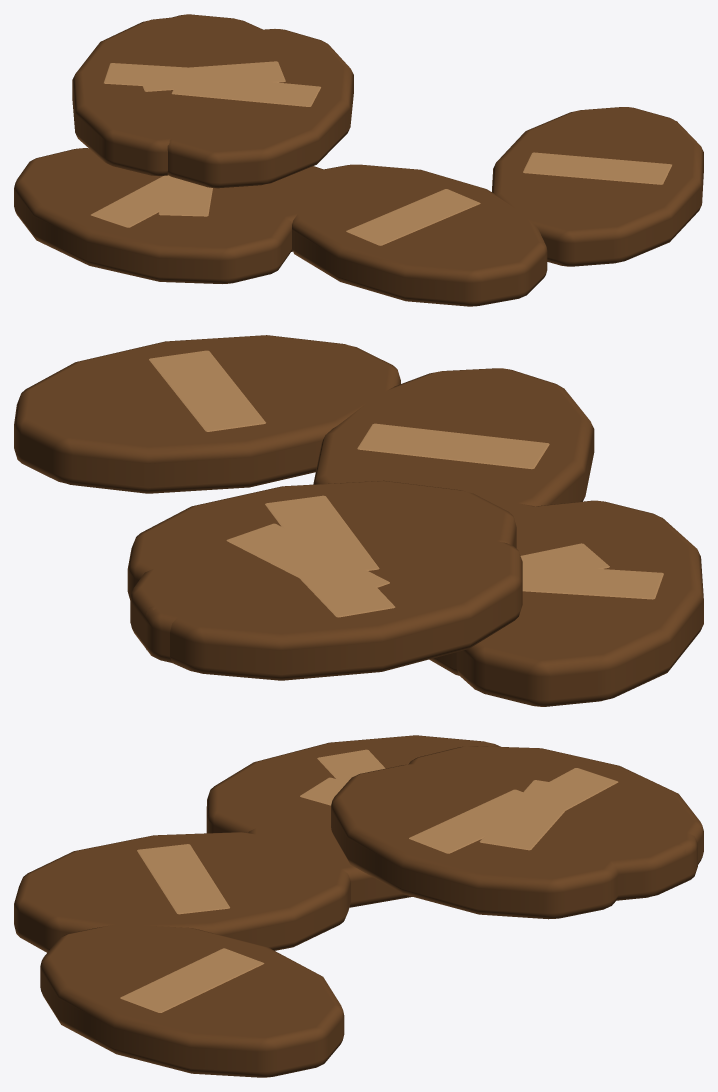
File: Mushroom_Cooked.glb
3 renders of one model, top to bottom at view 1: azimuth 30°, elevation 25°; view 2: azimuth 150°, elevation 25°; view 3: azimuth 270°, elevation 25°, orthographic. The views are drawn at different scales.
Visible parts, largest first — view 1: Mushroom_Cooked; view 2: Mushroom_Cooked; view 3: Mushroom_Cooked.
Part boxes in pixels (x1,y1,x2,y2): Mushroom_Cooked: (14, 14, 703, 306); Mushroom_Cooked: (14, 335, 703, 706); Mushroom_Cooked: (14, 735, 703, 1077).
Bounding box in the file's own units: 0.0997 × 0.0122 × 0.0936.
